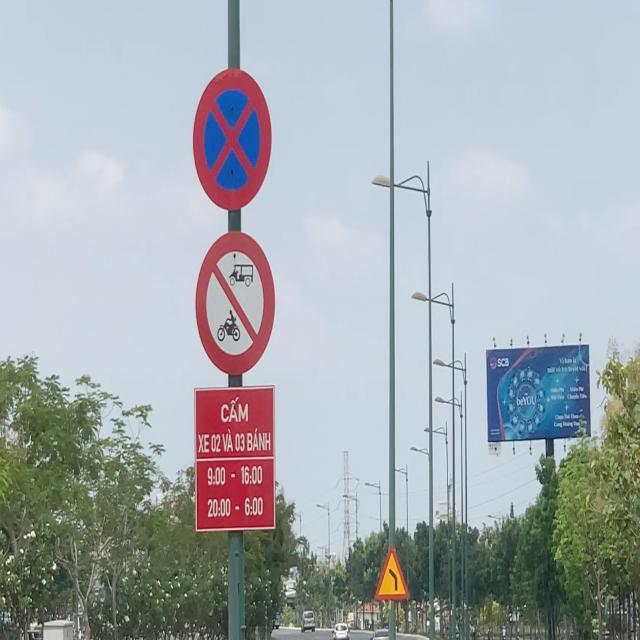Cam con lai: (195, 233, 276, 375)
Cam dung va do: (189, 62, 276, 217)
Nguy hiem: (371, 539, 412, 605)
